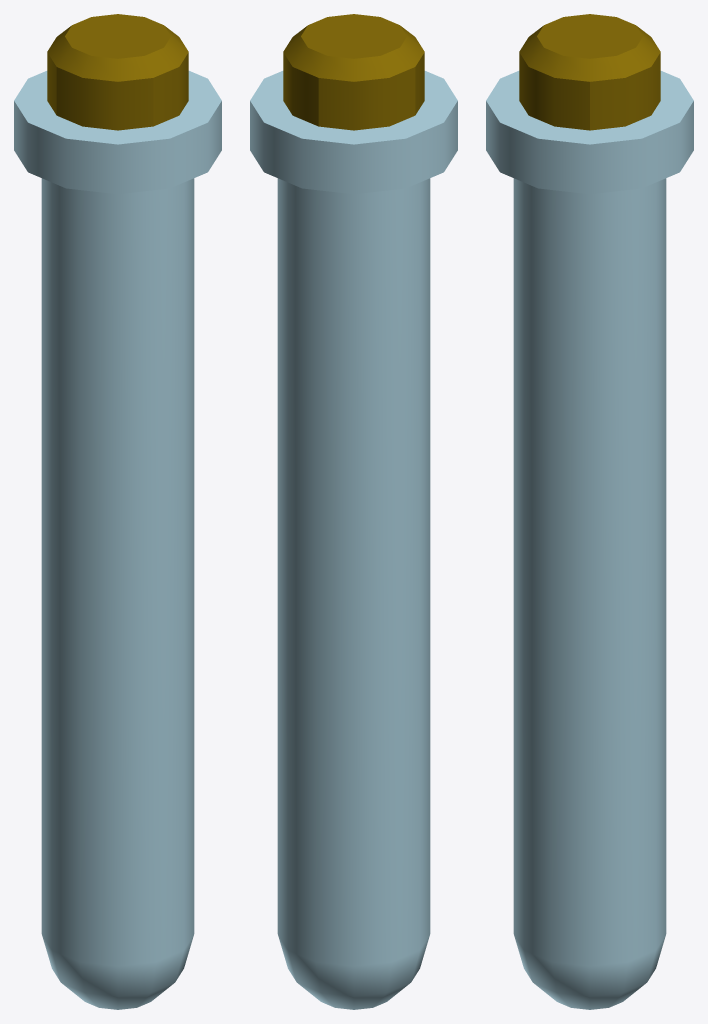
The model's file is Bottle_v3_001.fbx.
The picture shows the model from 3 angles, left to right: view 1: azimuth 30°, elevation 25°; view 2: azimuth 150°, elevation 25°; view 3: azimuth 270°, elevation 25°; orthographic projection.
Visible parts, largest first — view 1: Bottle_v3_001; view 2: Bottle_v3_001; view 3: Bottle_v3_001.
Boxes of the visible parts, <box> form: Bottle_v3_001: <box>14,14,221,1009</box>; Bottle_v3_001: <box>250,14,457,1009</box>; Bottle_v3_001: <box>486,14,693,1009</box>.
Size of the model in its own units: 12.63 by 64.81 by 12.63.
